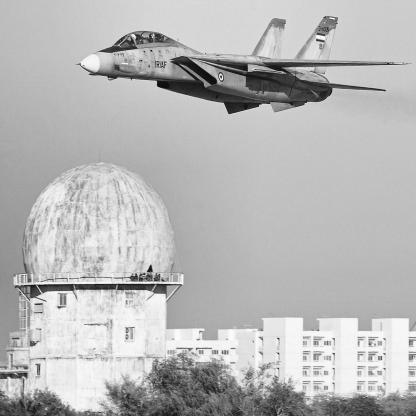F14: (77, 17, 414, 115)
